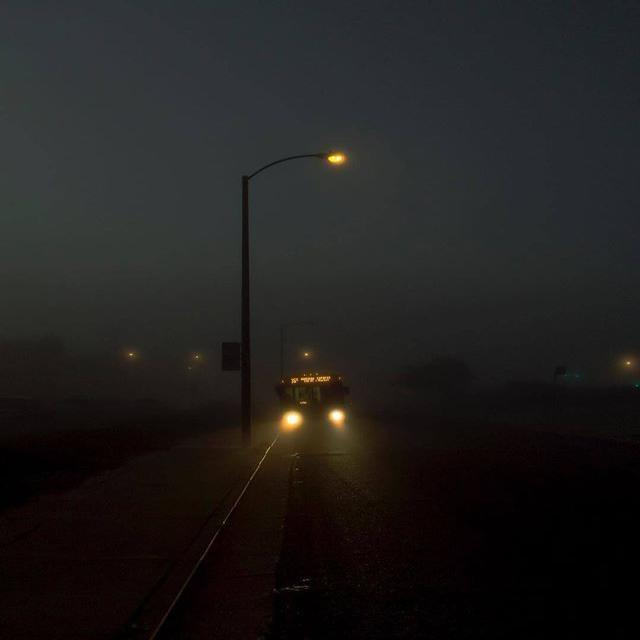on: (283, 395, 349, 426), (310, 131, 353, 178)
